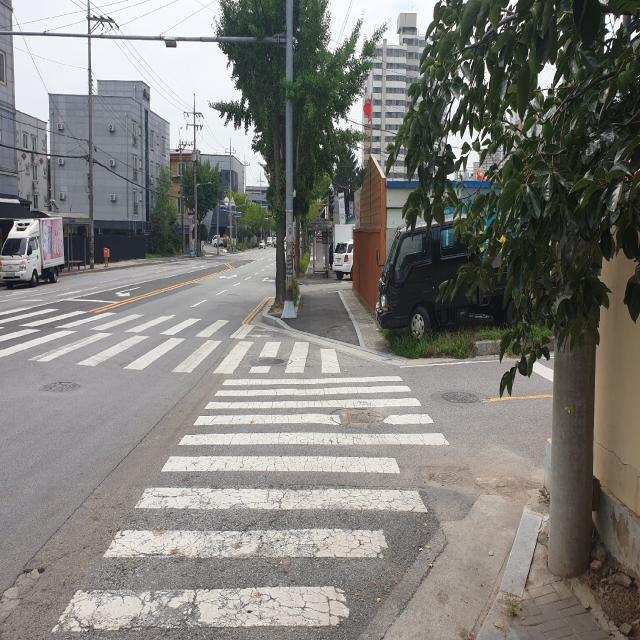횡단보도: (52, 375, 450, 633), (0, 296, 351, 376)
